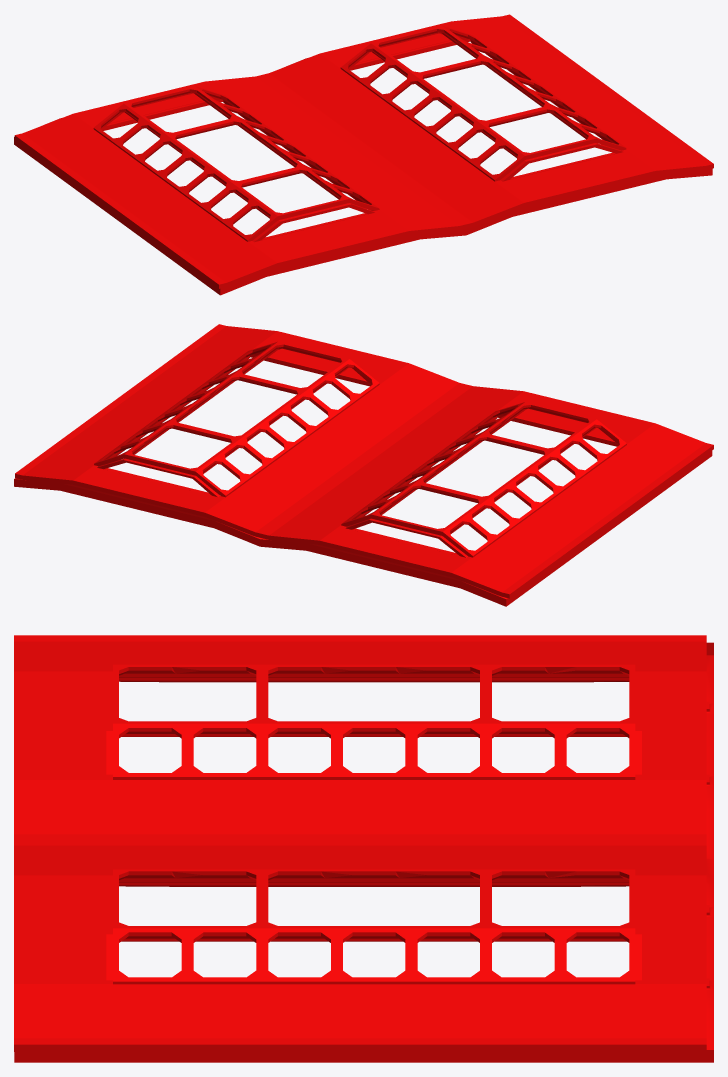
File: tesitng.FBX
3 views of the same model, one above another, from view 1: azimuth 30°, elevation 25°; view 2: azimuth 150°, elevation 25°; view 3: azimuth 270°, elevation 25° (orthographic). The views are drawn at different scales.
Parts seen in each view (by area): view 1: Object296; view 2: Object296; view 3: Object296.
Boxes of the visible parts, box(x1,y1,x2,y2) form: Object296: box(14, 14, 713, 295); Object296: box(14, 324, 713, 606); Object296: box(14, 635, 713, 1062).
Size of the model in its own units: 4166 by 296 by 3008.
